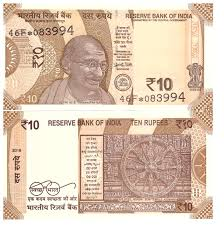ten: (14, 23, 193, 93)
